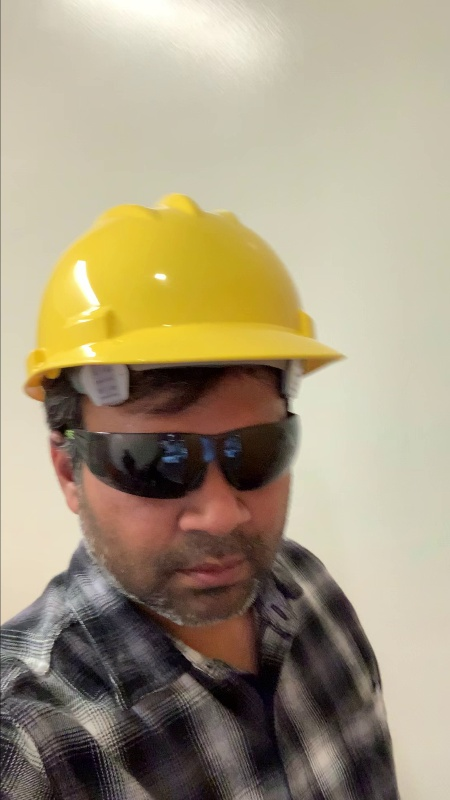glasses: (85, 422, 301, 492)
helmet: (43, 195, 322, 363)
